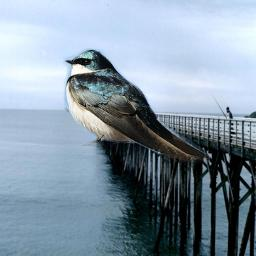Swallow: (63, 48, 210, 163)
